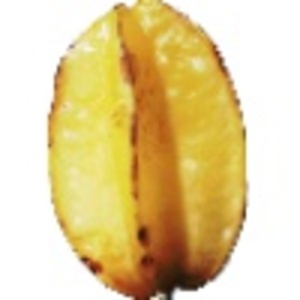carambola: (46, 1, 250, 300)
